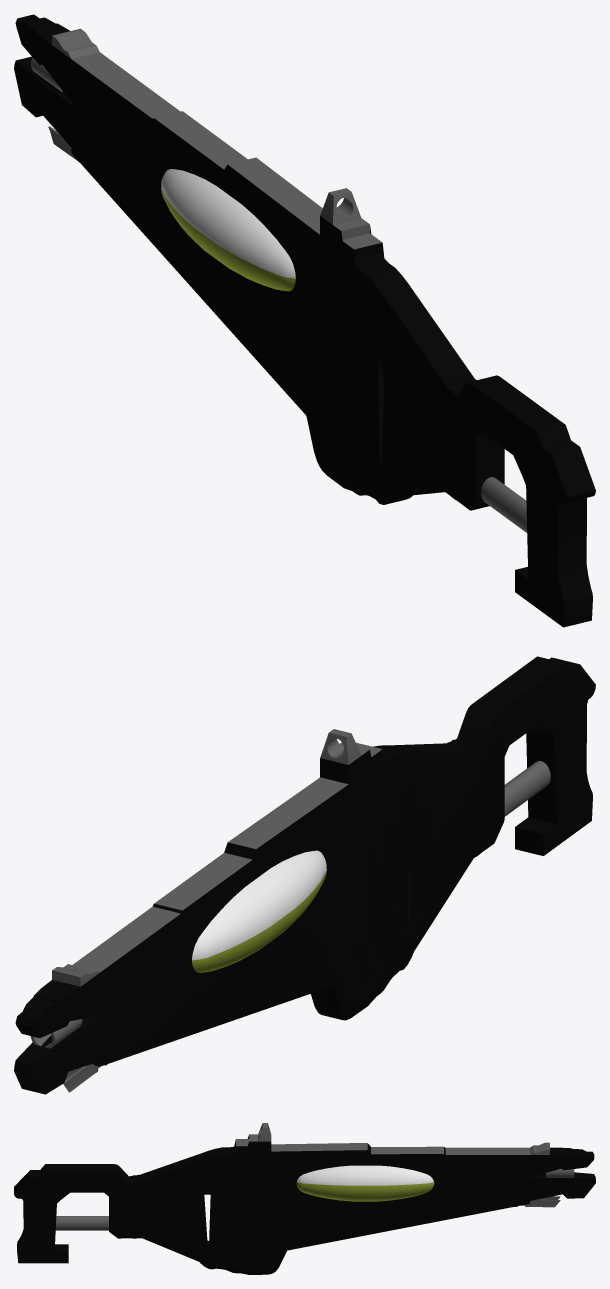
File: polen silahııı.fbx
3 views of the same model, one above another, from view 1: azimuth 30°, elevation 25°; view 2: azimuth 150°, elevation 25°; view 3: azimuth 270°, elevation 25° (orthographic). The views are drawn at different scales.
Visible parts, largest first — view 1: pollen gun; view 2: pollen gun; view 3: pollen gun.
Boxes of the visible parts, x1,y1,x2,y2 form: pollen gun: (14, 14, 595, 627); pollen gun: (14, 656, 595, 1094); pollen gun: (14, 1123, 595, 1274).
Size of the model in its own units: 8.5 by 29.75 by 107.
